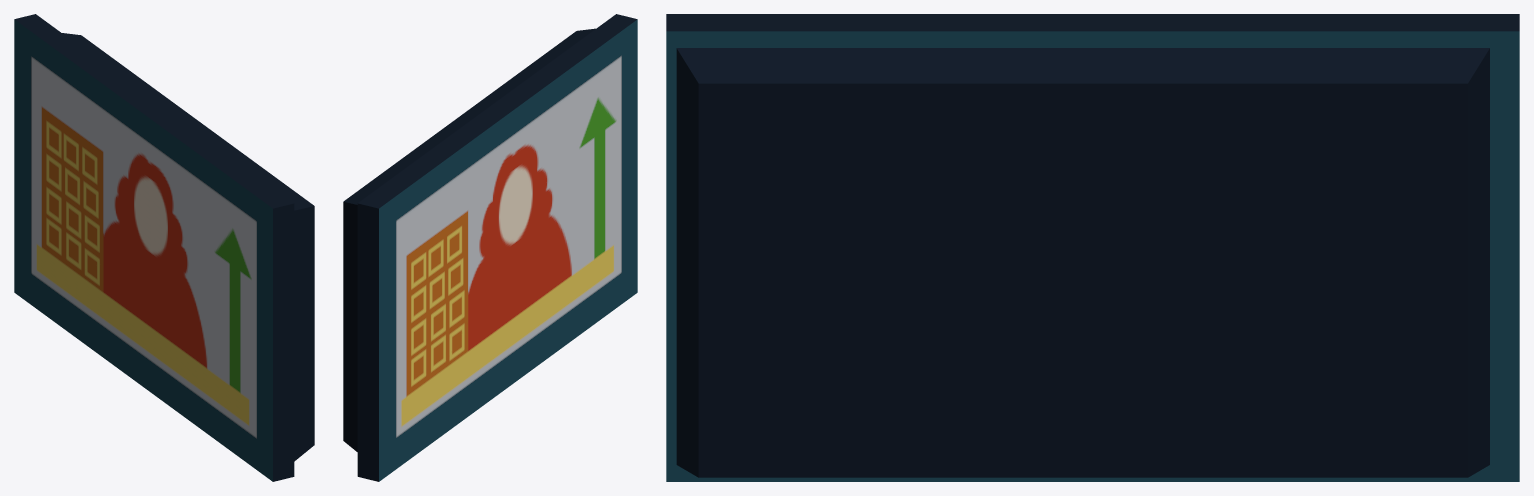
The model's file is Tele.FBX.
The picture shows the model from 3 angles, left to right: view 1: azimuth 30°, elevation 25°; view 2: azimuth 150°, elevation 25°; view 3: azimuth 270°, elevation 25°; orthographic projection. The views are drawn at different scales.
Visible parts, largest first — view 1: Tele; view 2: Tele; view 3: Tele.
Part boxes in pixels (box(x1,y1,x2,y2)): Tele: box(14, 14, 314, 481); Tele: box(343, 14, 637, 481); Tele: box(666, 14, 1519, 481).
Bounding box in the file's own units: 0.1973 × 1 × 1.72.
